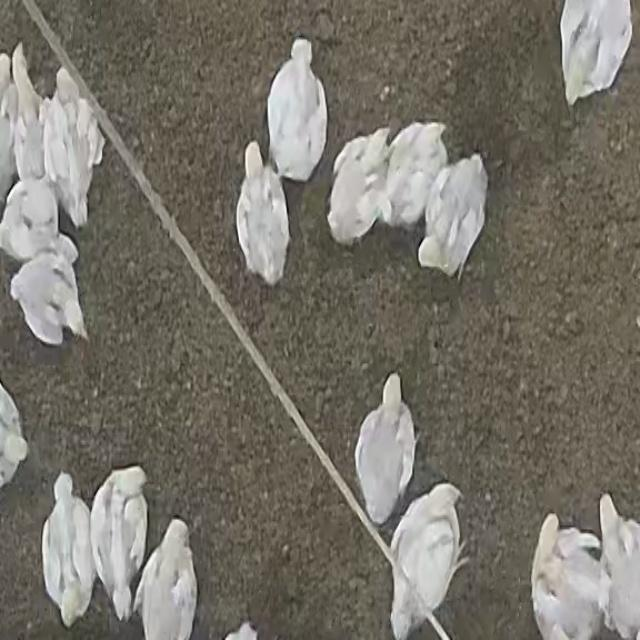chicken: (388, 481, 472, 635), (354, 368, 418, 525), (528, 509, 600, 640), (90, 466, 150, 619), (266, 37, 328, 183), (234, 140, 295, 288), (9, 251, 95, 355), (417, 154, 487, 279), (130, 518, 201, 640), (327, 128, 396, 245), (42, 474, 94, 625), (382, 122, 450, 234), (0, 176, 72, 266)
